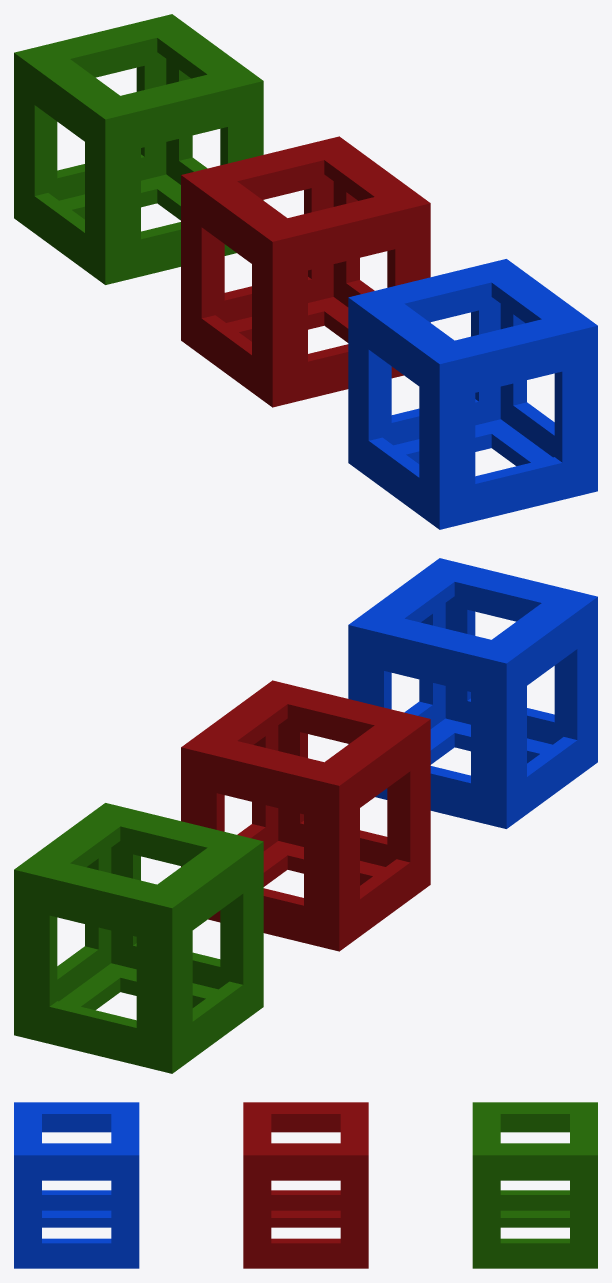
Rendered from cubes.glb.
3 views of the same model, one above another, from view 1: azimuth 30°, elevation 25°; view 2: azimuth 150°, elevation 25°; view 3: azimuth 270°, elevation 25° (orthographic). The views are drawn at different scales.
Parts seen in each view (by area): view 1: cube_blue, cube_red, cube_green; view 2: cube_green, cube_blue, cube_red; view 3: cube_red, cube_blue, cube_green.
Boxes of the visible parts, <box> form: cube_blue: <box>348,259,597,529</box>; cube_red: <box>181,136,430,407</box>; cube_green: <box>14,14,263,284</box>; cube_green: <box>14,803,263,1073</box>; cube_blue: <box>348,558,597,828</box>; cube_red: <box>181,680,430,951</box>; cube_red: <box>243,1102,368,1268</box>; cube_blue: <box>14,1102,139,1268</box>; cube_green: <box>472,1102,597,1268</box>.
Bounding box in the file's own units: 0.0861 × 0.0861 × 0.4011.
